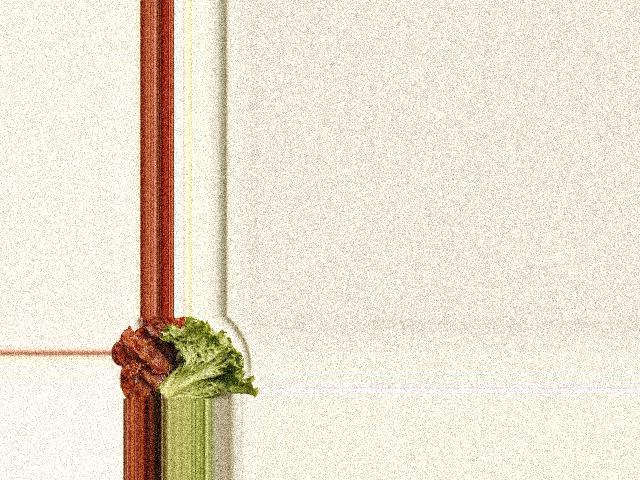lettuce: (160, 319, 253, 400)
